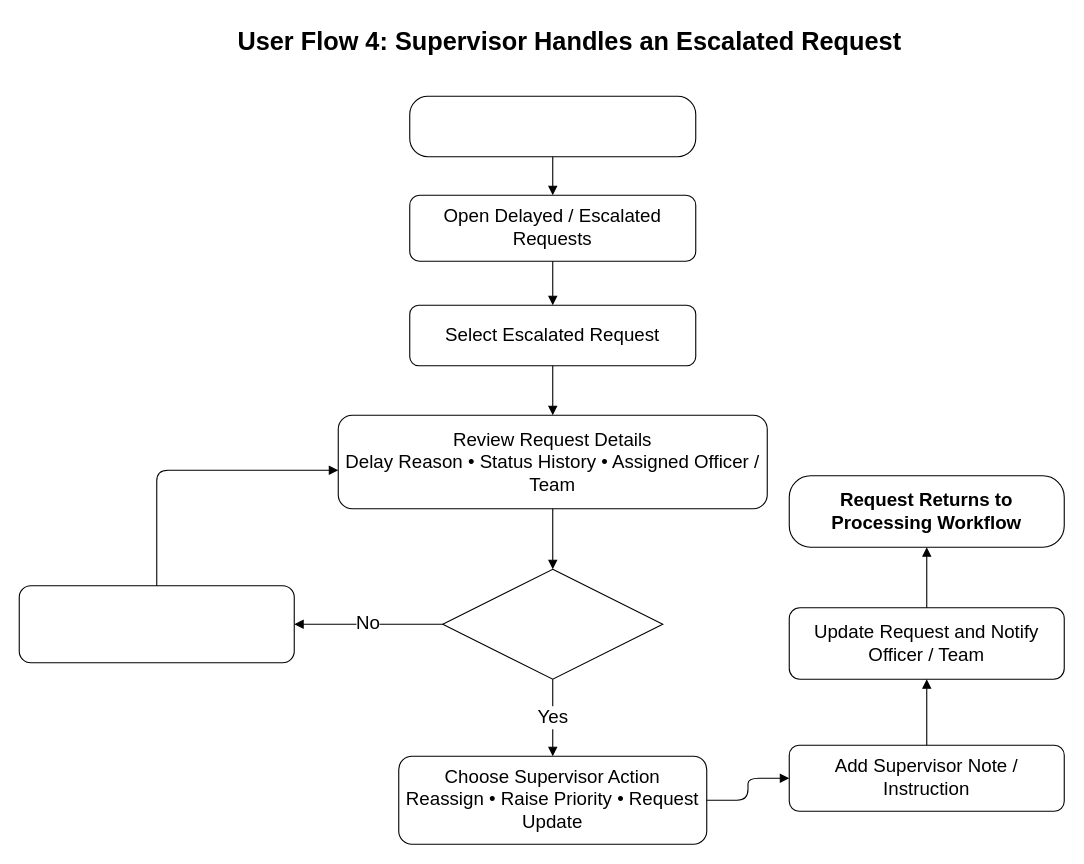
Some shapes in this 1084 by 864 pixel diagram are drawn without their labels. The shapes that lost their labels are listed below. From the top down, each one's centre as x and y in pixels, then its label:
At [552,126]: "Supervisor Dashboard".
At [156,624]: "Keep Current Assignment Continue Monitoring".
At [552,623]: "Supervisor Action Needed?".
